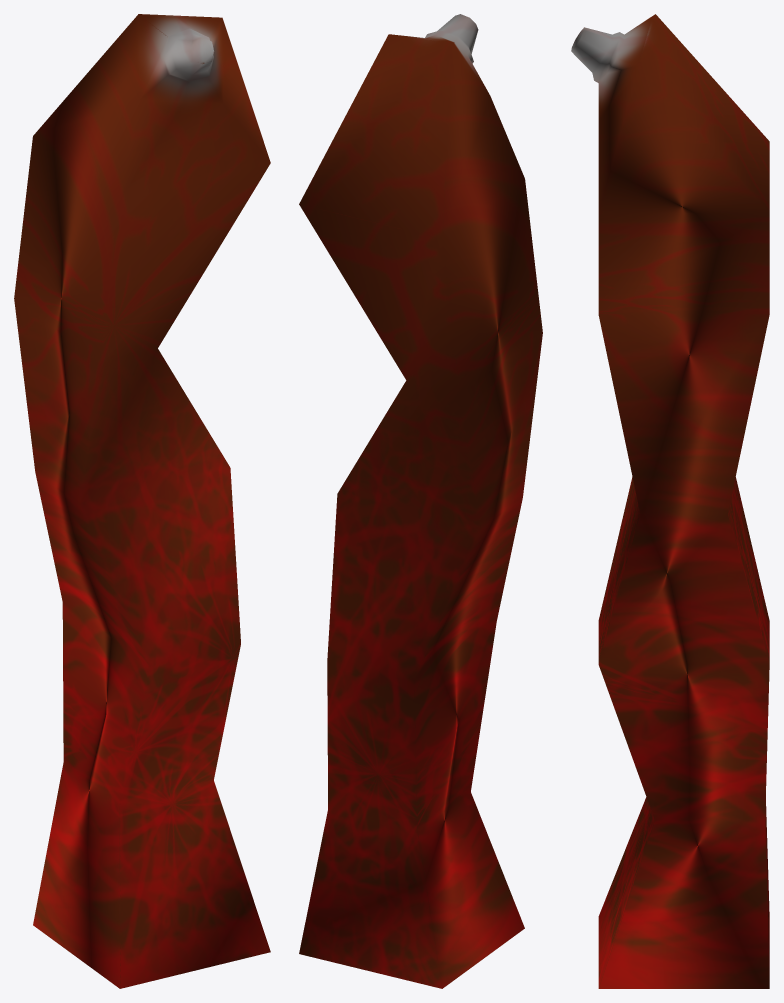
Rendered from Trap.fbx.
3 views of the same model, side by side, from view 1: azimuth 30°, elevation 25°; view 2: azimuth 150°, elevation 25°; view 3: azimuth 270°, elevation 25° (orthographic). The views are drawn at different scales.
Visible parts, largest first — view 1: pCube1; view 2: pCube1; view 3: pCube1.
Part boxes in pixels (left/top/right/bottom): pCube1: left=14, top=14, right=270, bottom=988; pCube1: left=299, top=14, right=542, bottom=988; pCube1: left=571, top=14, right=769, bottom=988.
Size of the model in its own units: 21.71 by 115 by 22.34.
